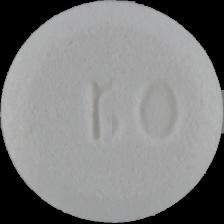33261-754: (0, 0, 224, 224)
